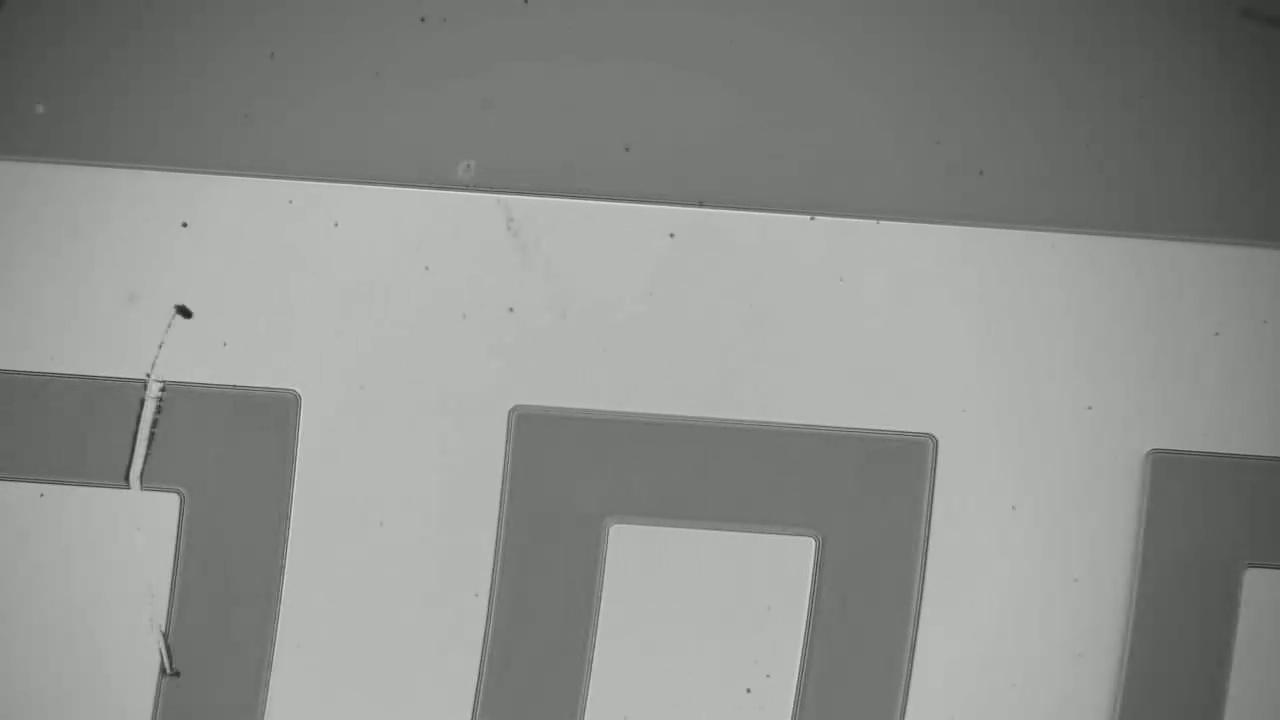Short_circuit: (81, 357, 186, 519)
